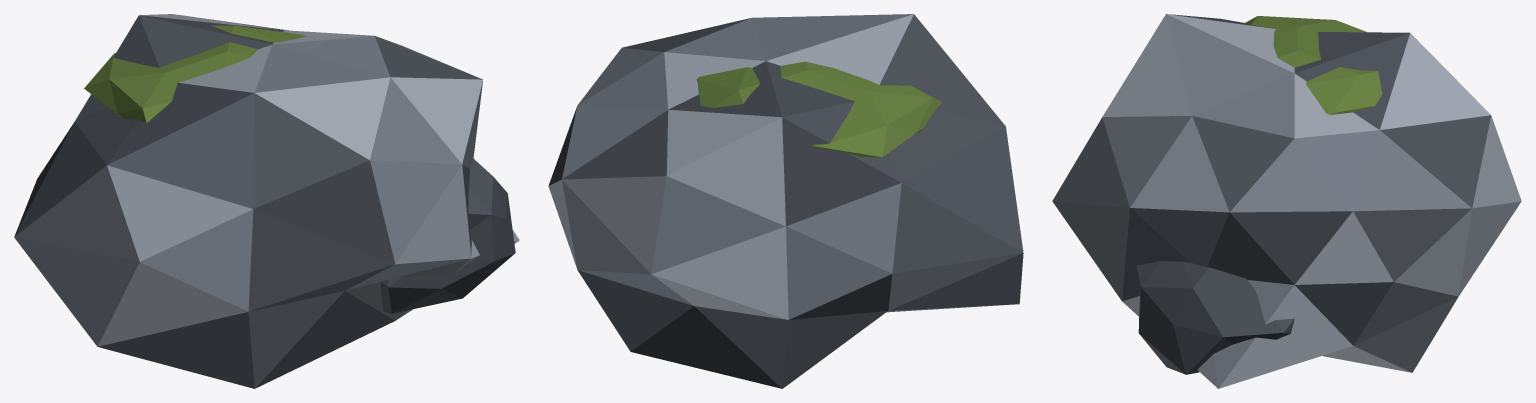
The model's file is boulder_rock.glb.
The picture shows the model from 3 angles, left to right: view 1: azimuth 30°, elevation 25°; view 2: azimuth 150°, elevation 25°; view 3: azimuth 270°, elevation 25°; orthographic projection.
Parts seen in each view (by area): view 1: boulder_rock; view 2: boulder_rock; view 3: boulder_rock.
Part boxes in pixels (<box>): boulder_rock: <box>14,14,519,388</box>; boulder_rock: <box>548,14,1023,388</box>; boulder_rock: <box>1052,14,1521,388</box>.
Bounding box in the file's own units: 3.03 × 1.84 × 2.68.
1 material, 1 textured.
